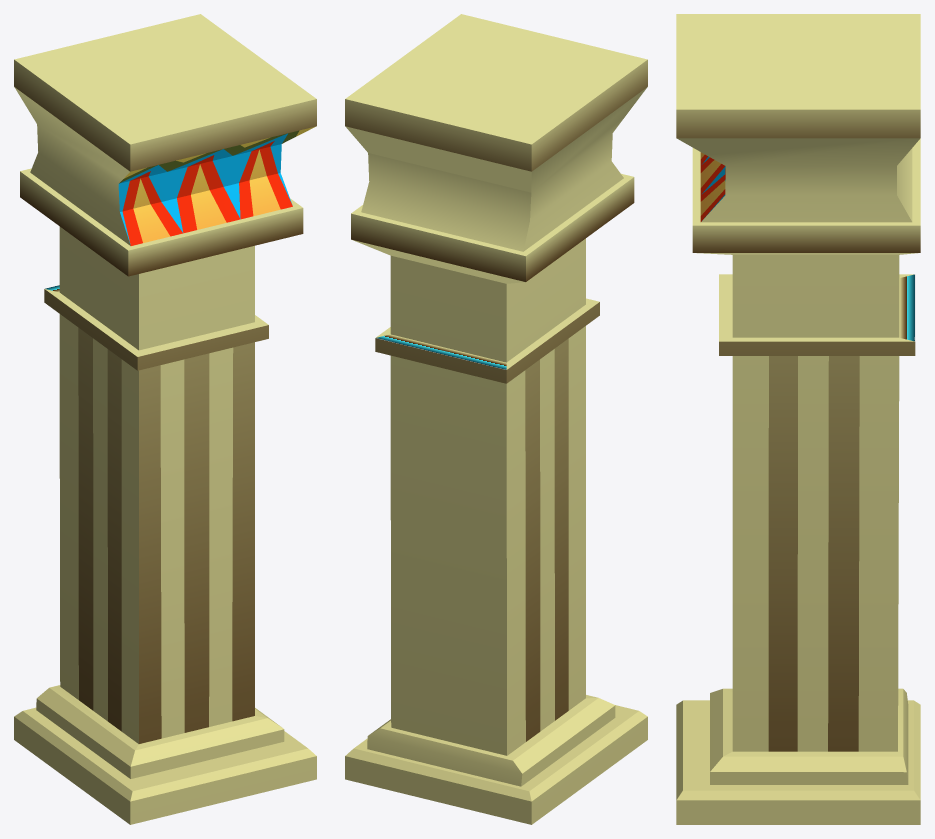
Rendered from egypt_env_column_02.gltf.
The picture shows the model from 3 angles, left to right: view 1: azimuth 30°, elevation 25°; view 2: azimuth 150°, elevation 25°; view 3: azimuth 270°, elevation 25°; orthographic projection. The views are drawn at different scales.
Parts seen in each view (by area): view 1: egypt_env_column_02_glb; view 2: egypt_env_column_02_glb; view 3: egypt_env_column_02_glb.
Boxes of the visible parts, x1,y1,x2,y2 form: egypt_env_column_02_glb: [14, 14, 316, 824]; egypt_env_column_02_glb: [345, 14, 647, 824]; egypt_env_column_02_glb: [676, 14, 920, 824].
Size of what is drawn, in the model's own units: 1.15 by 4 by 1.24.
1 material, 1 textured.
